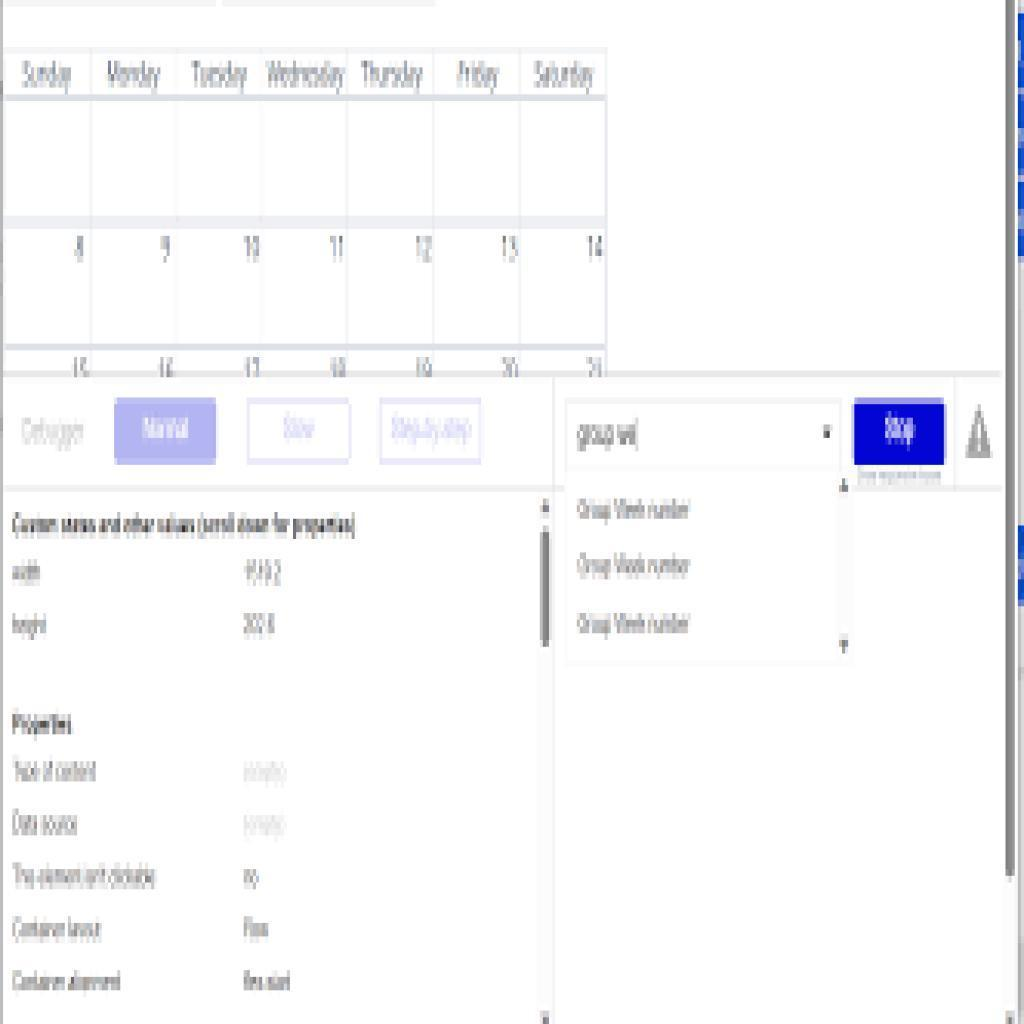button: (112, 397, 215, 467), (245, 398, 353, 463), (381, 400, 481, 464), (854, 399, 947, 466)
dropdown: (564, 401, 841, 472)
icon: (962, 405, 995, 461)
table: (2, 57, 608, 344)
